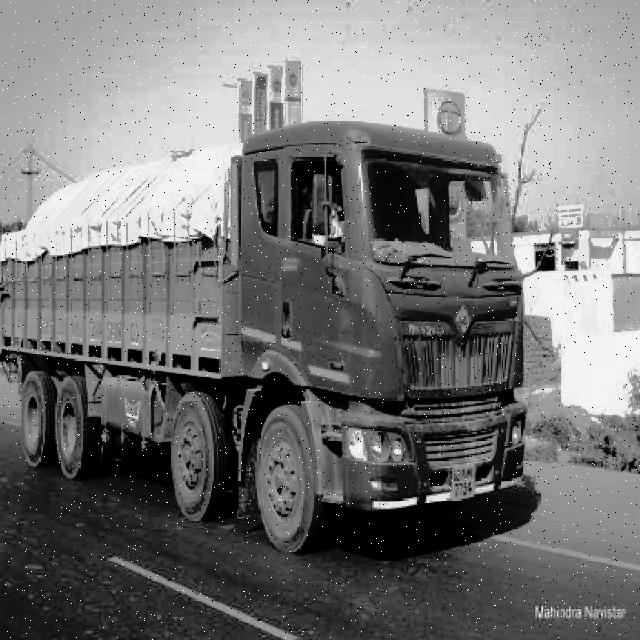HCV: (22, 157, 524, 498)
